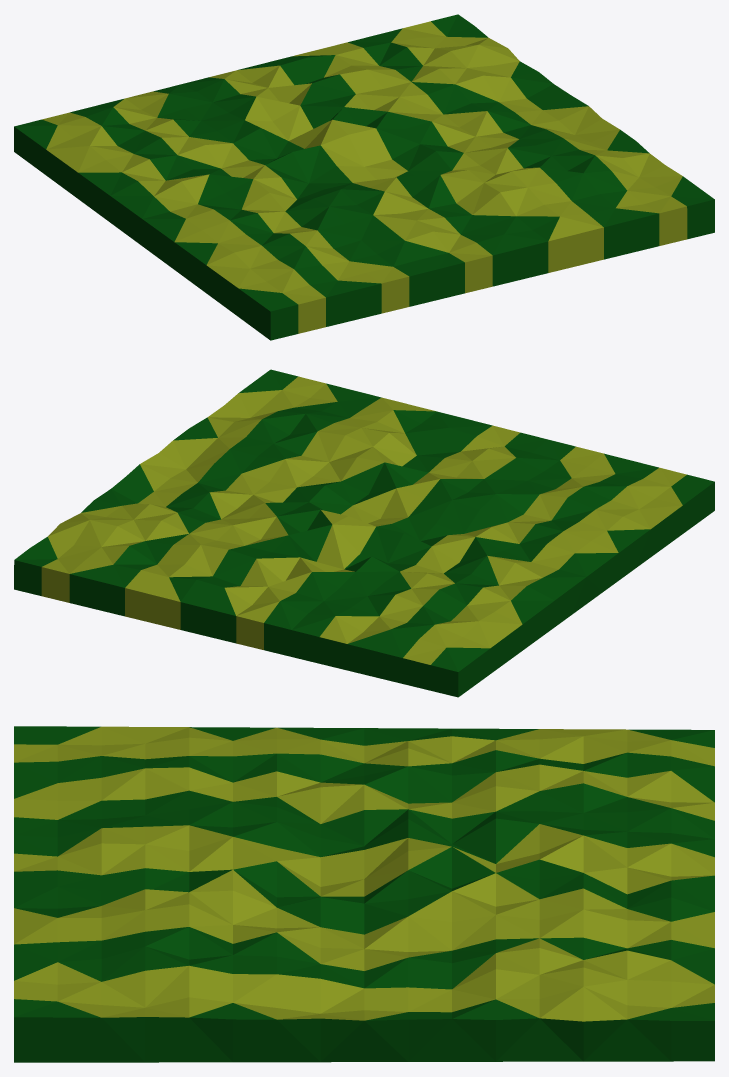
The model's file is Watermelon Slim.fbx.
3 views of the same model, one above another, from view 1: azimuth 30°, elevation 25°; view 2: azimuth 150°, elevation 25°; view 3: azimuth 270°, elevation 25° (orthographic). The views are drawn at different scales.
Parts seen in each view (by area): view 1: Watermelon; view 2: Watermelon; view 3: Watermelon.
Part boxes in pixels (x1=…): Watermelon: x1=14, y1=14, x2=714, y2=340; Watermelon: x1=14, y1=369, x2=714, y2=697; Watermelon: x1=14, y1=726, x2=714, y2=1062.
Size of the model in its own units: 4568 by 486 by 4543.
